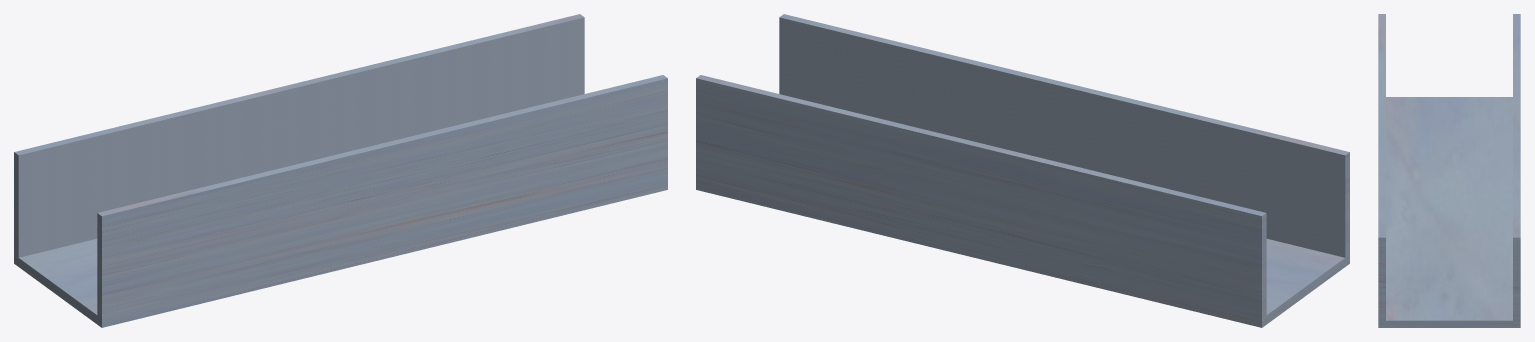
The model's file is marbel SIMPLE LEVEL.fbx.
The picture shows the model from 3 angles, left to right: view 1: azimuth 30°, elevation 25°; view 2: azimuth 150°, elevation 25°; view 3: azimuth 270°, elevation 25°; orthographic projection. The views are drawn at different scales.
Parts seen in each view (by area): view 1: Cube.001; view 2: Cube.001; view 3: Cube.001.
Boxes of the visible parts, bbox=[...] form: Cube.001: bbox=[14, 14, 667, 327]; Cube.001: bbox=[696, 14, 1349, 327]; Cube.001: bbox=[1378, 14, 1520, 327].
Bounding box in the file's own units: 1575 × 1106 × 5865.
Materials: 1 (1 with a texture image).
